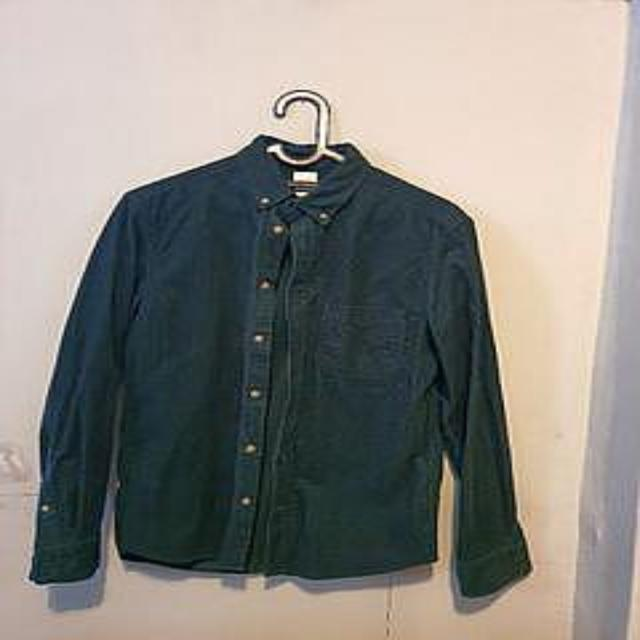SHIRT: (14, 132, 558, 610)
